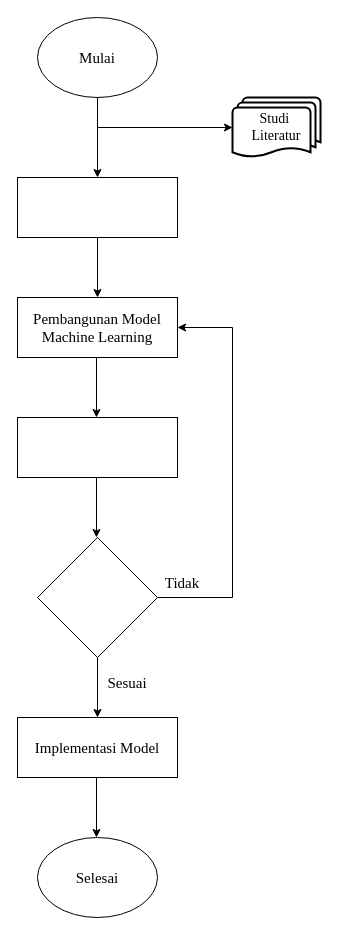
Some shapes in this 339 by 935 pixel diagram are drawn without their labels. The shapes that lost their labels are listed below. From the top down, each one's box as (x1, y1, x2, y2) in pixels, then its label:
(16, 176, 178, 238): Pencarian dataset
(16, 416, 178, 478): Evaluasi Model
(36, 536, 158, 658): Validasi Hasil Evaluasi Model
